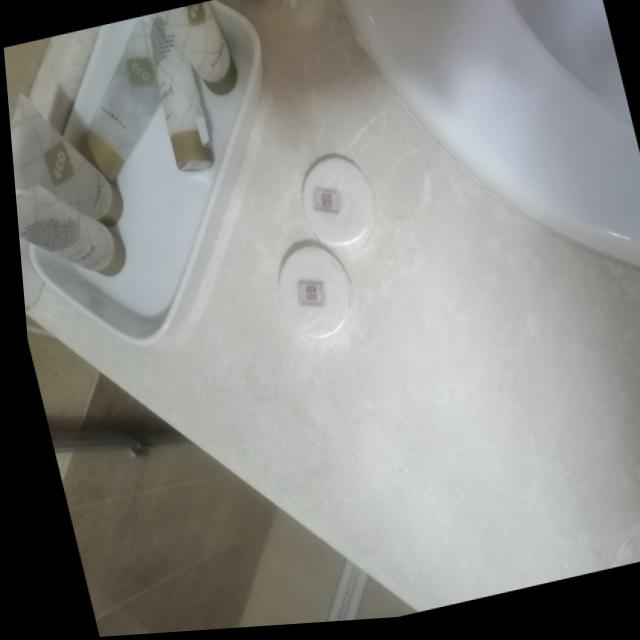datamatrix: (296, 287, 315, 308), (314, 195, 332, 216)
